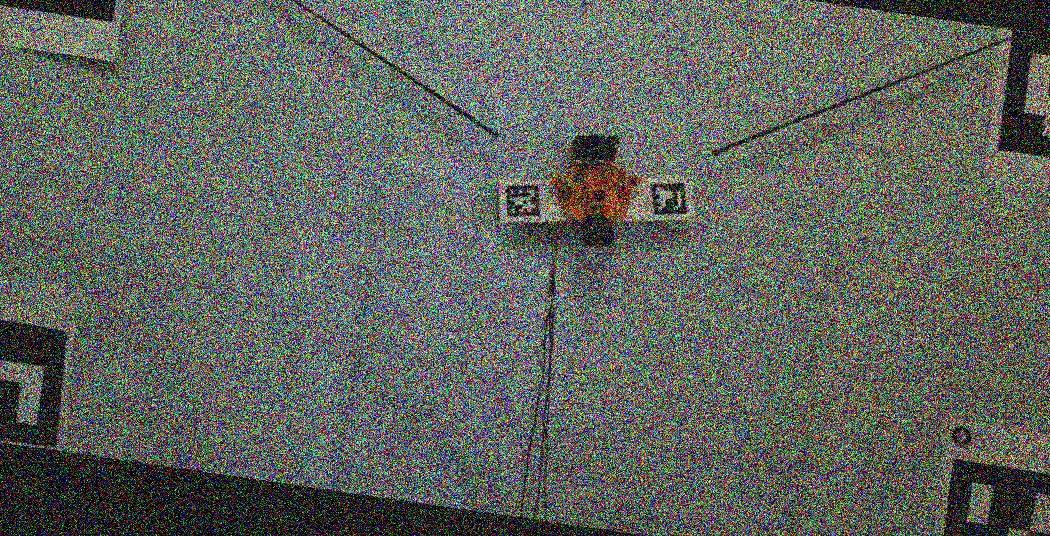robot: (553, 134, 643, 247)
